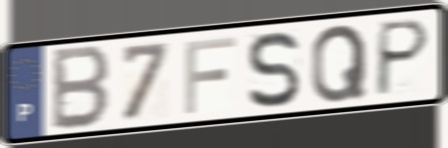7: (120, 39, 172, 124)
B: (49, 43, 113, 133)
F: (182, 33, 239, 116)
P: (372, 17, 433, 100)
Q: (308, 21, 369, 106)
S: (245, 28, 302, 111)
